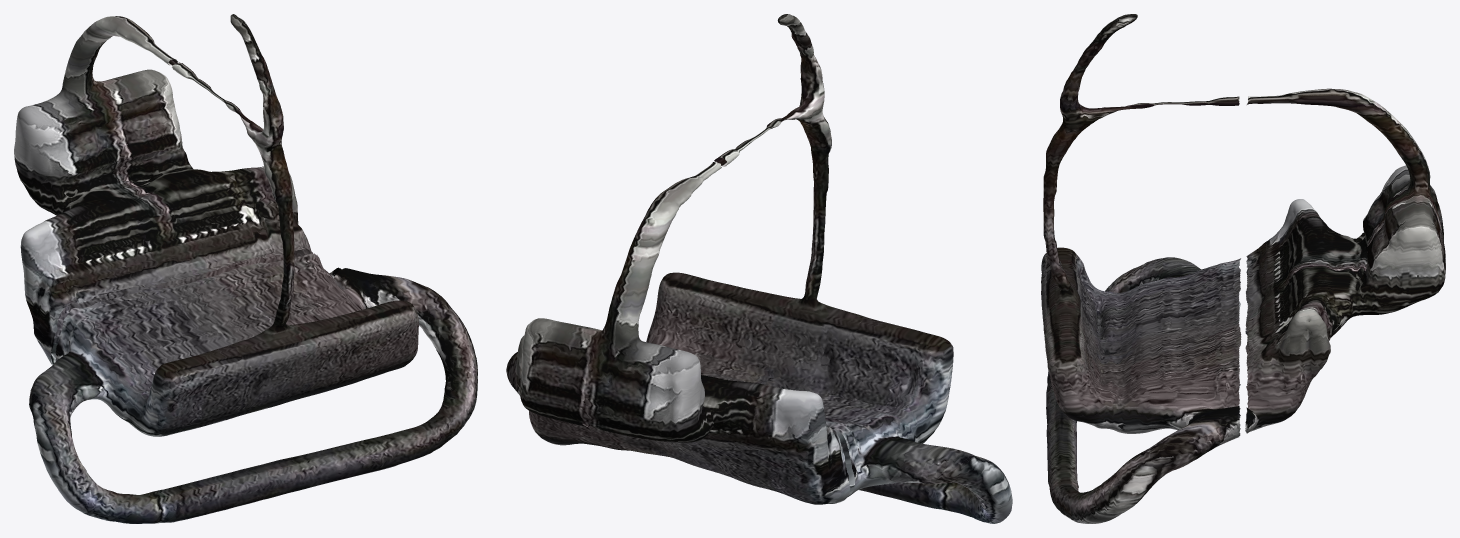
The model's file is kfl-2143.glb.
3 views of the same model, side by side, from view 1: azimuth 30°, elevation 25°; view 2: azimuth 150°, elevation 25°; view 3: azimuth 270°, elevation 25° (orthographic). The views are drawn at different scales.
Visible parts, largest first — view 1: geometry_0; view 2: geometry_0; view 3: geometry_0.
Boxes of the visible parts, <box> form: geometry_0: <box>14,14,477,523</box>; geometry_0: <box>506,14,1012,523</box>; geometry_0: <box>1041,14,1445,523</box>.
Bounding box in the file's own units: 0.9947 × 0.9922 × 0.8508.
Materials: 1 (1 with a texture image).
